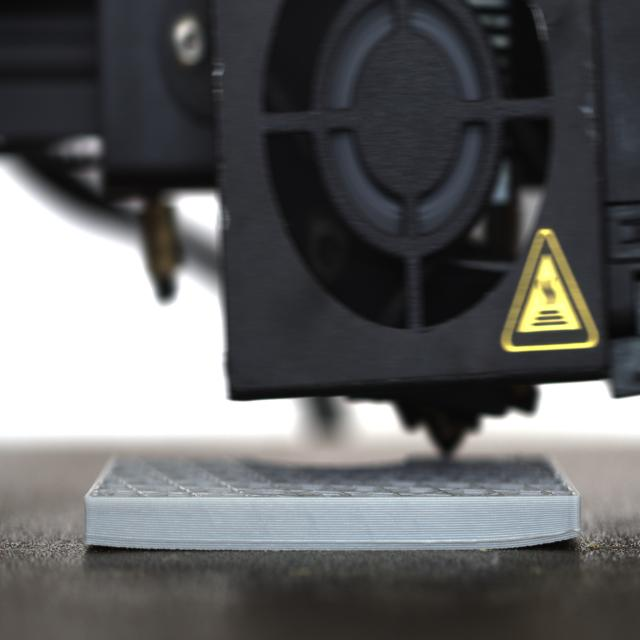Warping: (528, 523, 583, 554)
